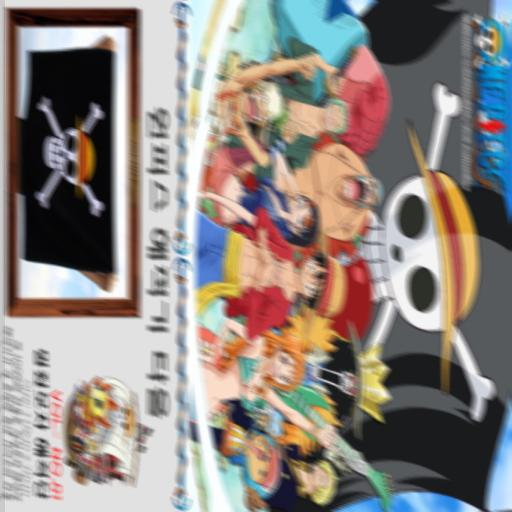Luffy: (294, 247, 348, 327)
Nami: (258, 326, 308, 390)
NicoRobin: (283, 192, 322, 248)
Usopp: (236, 72, 285, 132)
Zoro: (318, 93, 348, 141)
sanji: (300, 453, 340, 504)
